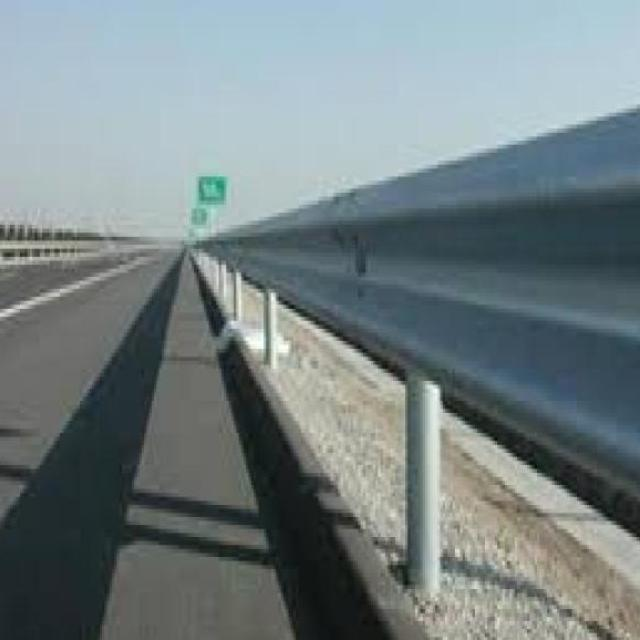Guard rail: (204, 111, 640, 531)
